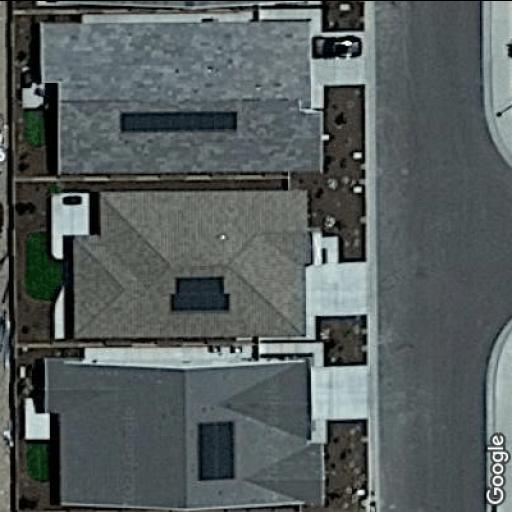solar-panel: (116, 106, 238, 134), (167, 272, 233, 315), (194, 418, 238, 482)
